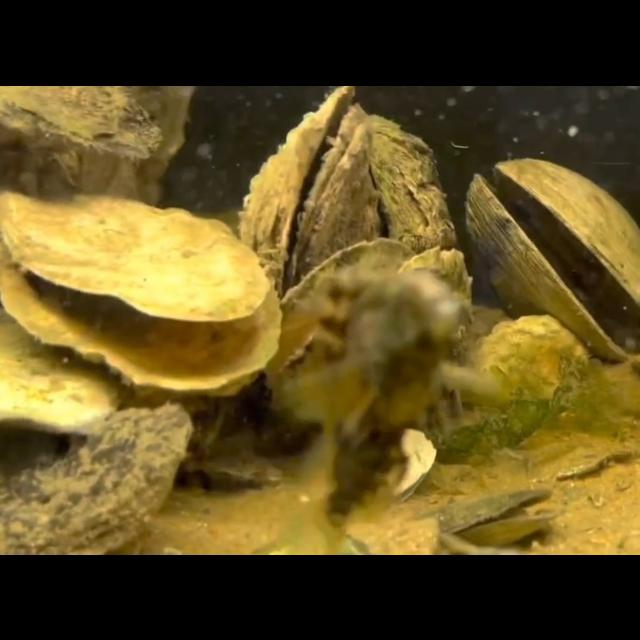Oyster-Closed: (0, 403, 198, 555), (433, 314, 591, 464), (0, 310, 130, 442), (0, 84, 172, 170), (372, 119, 462, 259)
Oyster-Open: (0, 197, 290, 400), (270, 244, 482, 423), (464, 156, 640, 362), (246, 85, 384, 295), (407, 486, 558, 554), (366, 426, 440, 506), (180, 436, 284, 490)
